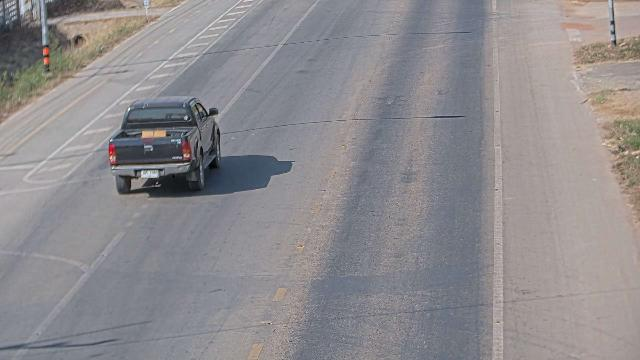pickup-truck: (107, 95, 222, 194)
